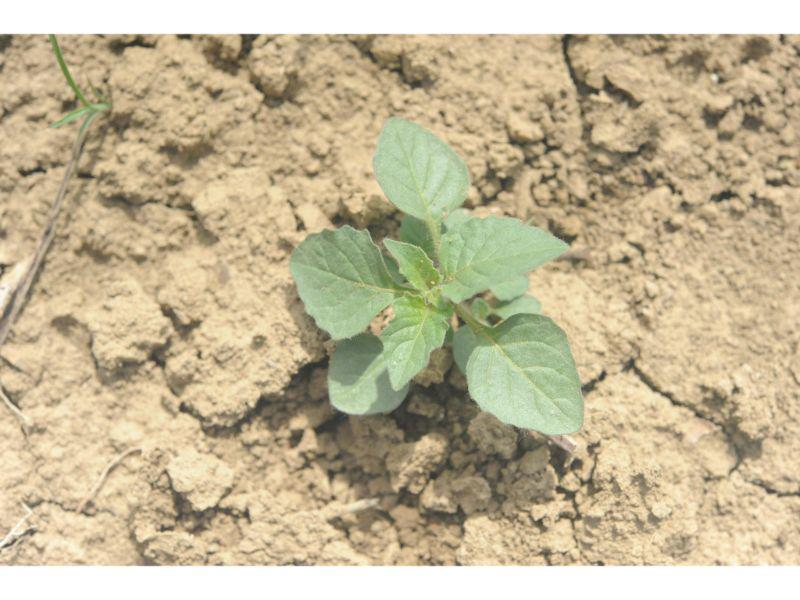nightshade: (290, 112, 585, 436)
